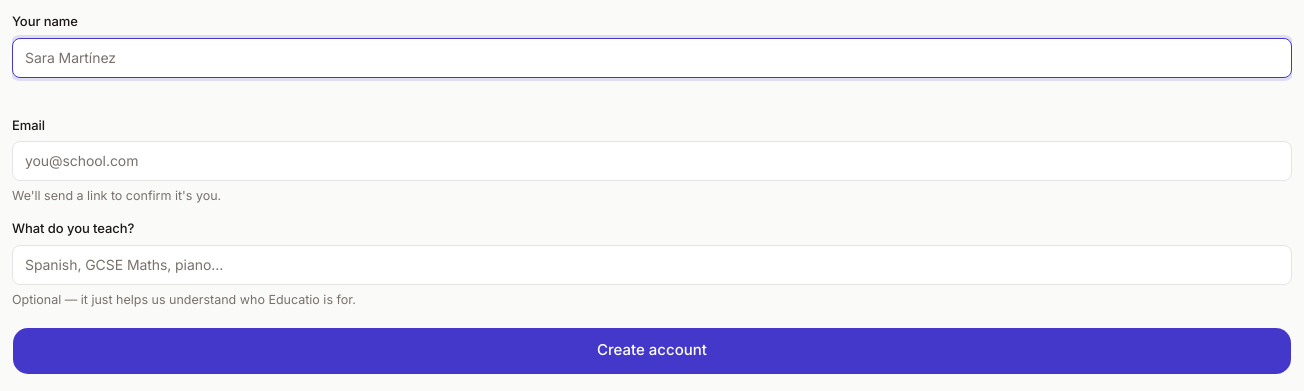
it: what leaving a field says about it › does report a field the tutor filled in wrongly
This screenshot has width=1304, height=391.
In the field labelled "Email": (652, 161) [25,151,1279,171], type "not-an-email"
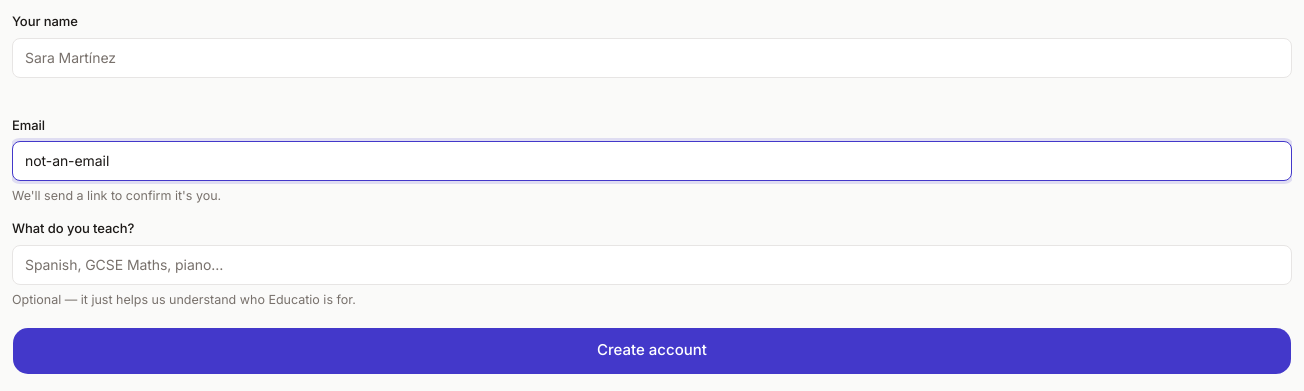
Click the field labelled "Your name": click(652, 58) [25,48,1279,68]
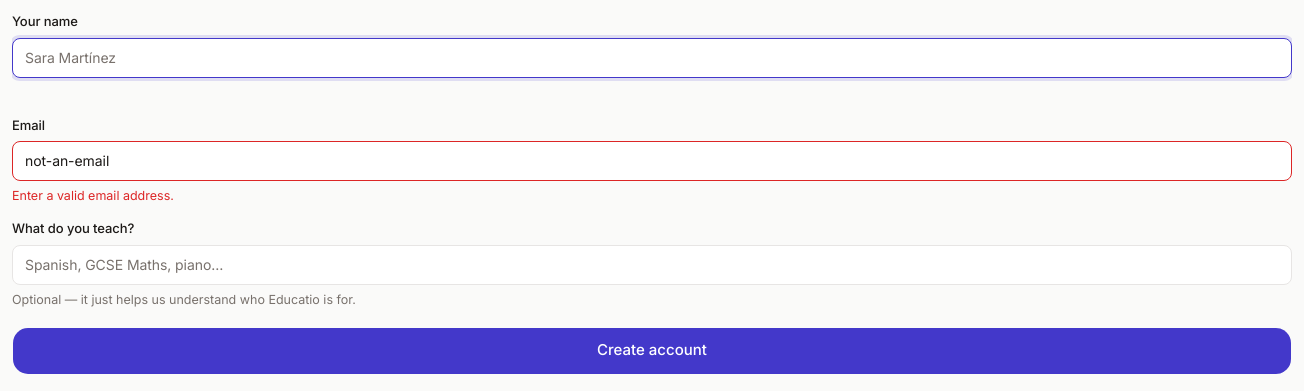
Now the text "Enter a valid email address." is shown, box [12,188,174,203]
